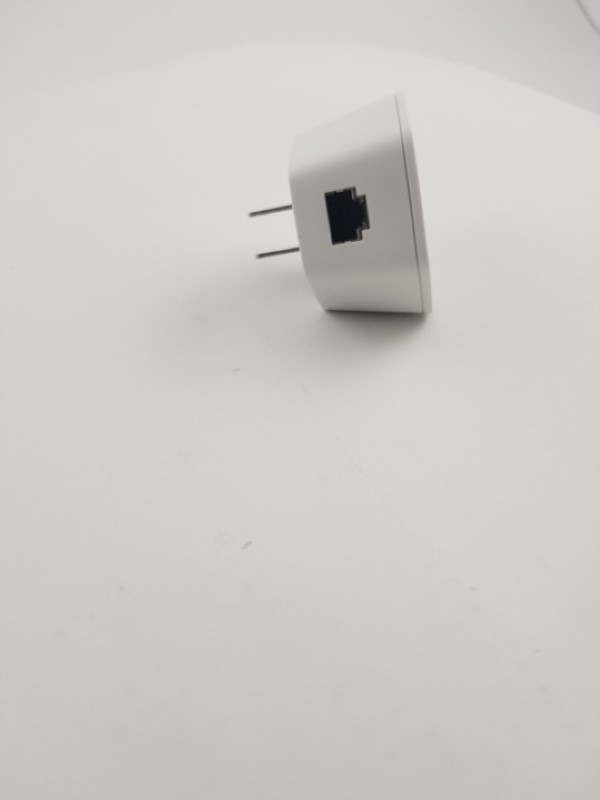pod: (245, 89, 442, 328)
